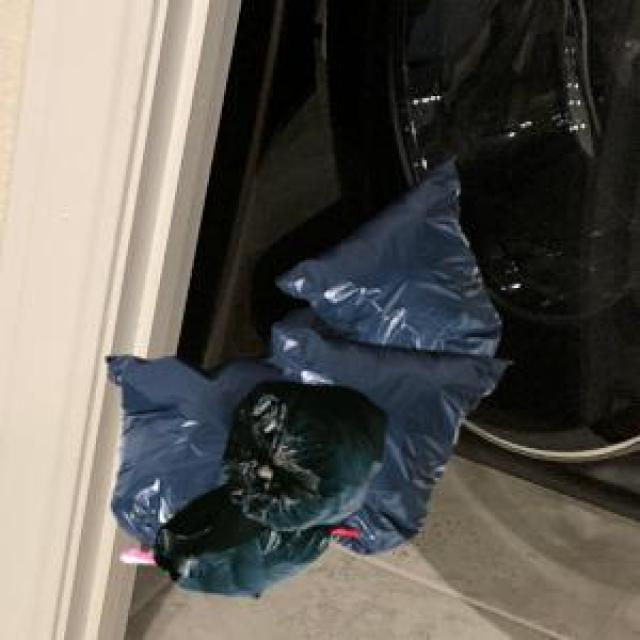Trashbag: (281, 174, 492, 354), (358, 348, 508, 552), (101, 347, 266, 522), (239, 390, 382, 526), (161, 507, 319, 600)
